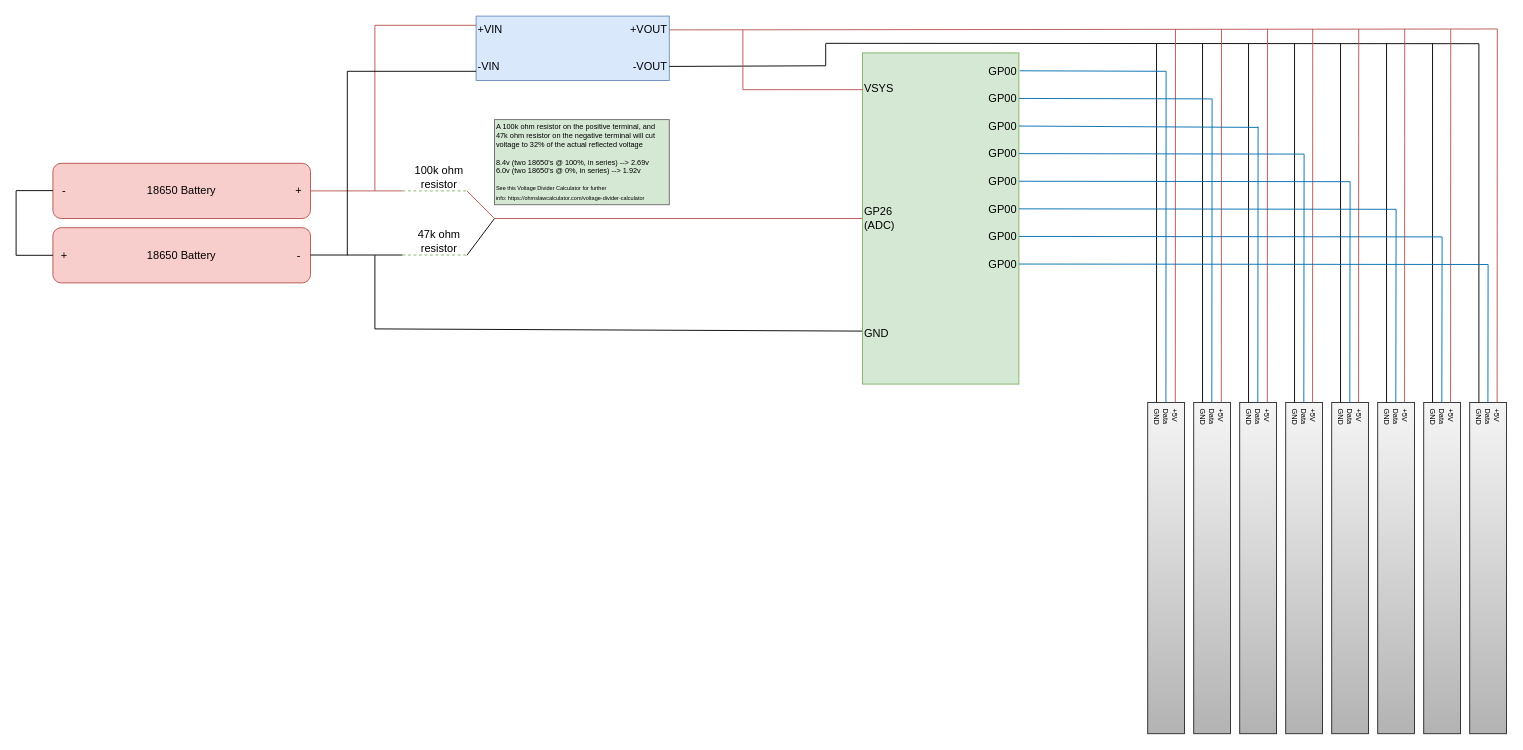
Image size: 1523x750. Some labels were removed from this diagram. The shapes that lost their labels are listed below. From the top down, each one's box as (x1, y1, x2, y2) in pixels, then its label:
(475, 15, 669, 80): LM2596 Buck Converter to 5V
(862, 52, 1019, 384): Raspberry Pi Pico
